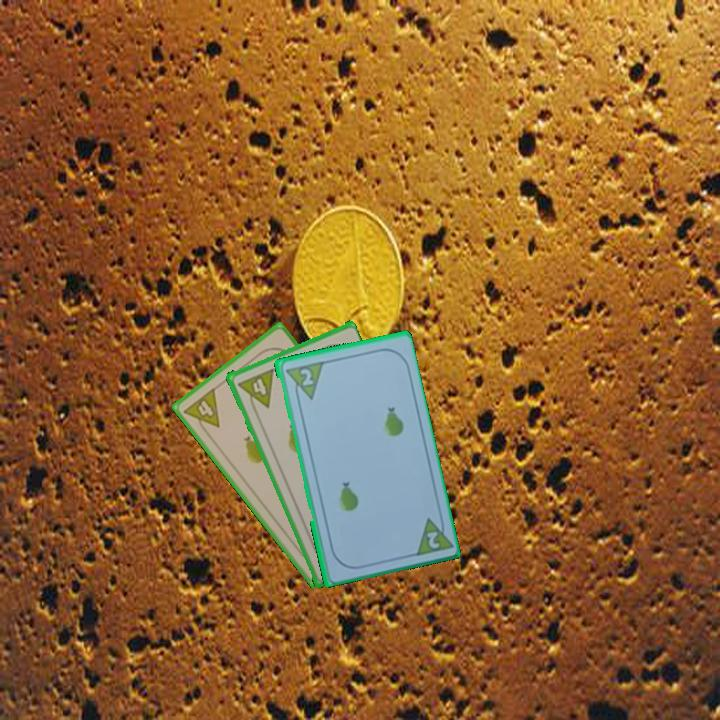2p: (296, 364, 316, 388), (423, 527, 442, 552)
4p: (180, 384, 223, 438), (233, 365, 276, 415)
